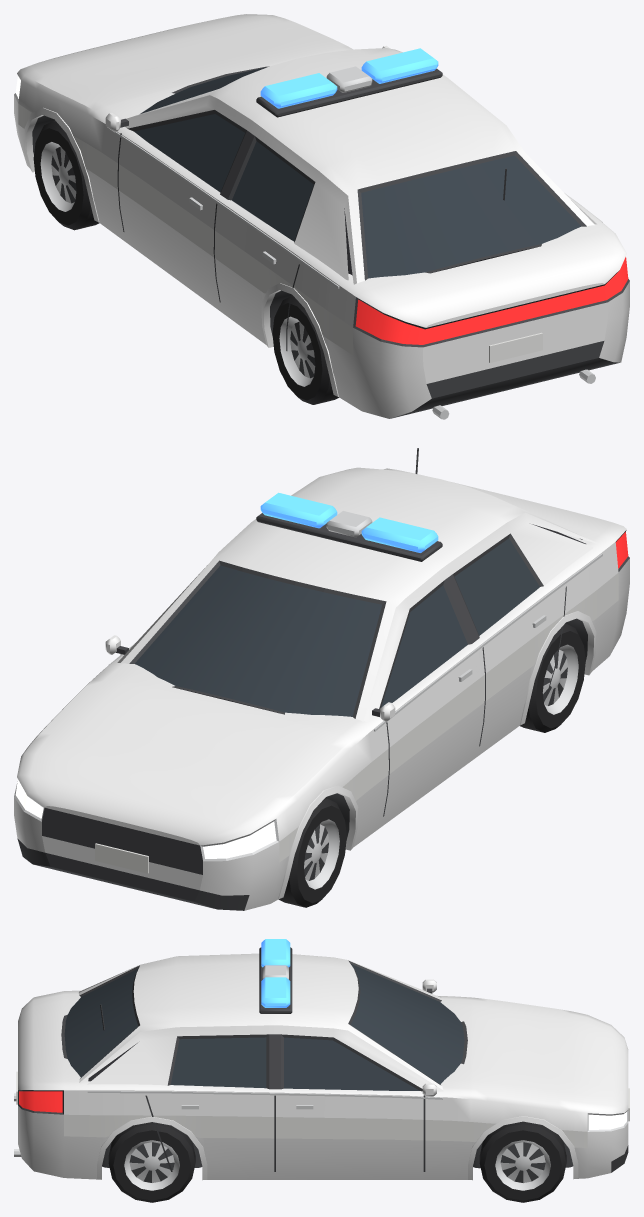
Rendered from Pantera.fbx.
The picture shows the model from 3 angles, top to bottom: view 1: azimuth 30°, elevation 25°; view 2: azimuth 150°, elevation 25°; view 3: azimuth 270°, elevation 25°; orthographic projection. The views are drawn at different scales.
Visible parts, largest first — view 1: Body, Wheel_RL, Wheel_FL; view 2: Body, Wheel_FL, Wheel_RL; view 3: Body, Wheel_FR, Wheel_RR.
Part boxes in pixels (x1,y1,x2,y2): Body: [14, 14, 629, 419]; Wheel_RL: [272, 295, 338, 404]; Wheel_FL: [33, 120, 99, 230]; Body: [14, 448, 629, 910]; Wheel_FL: [278, 798, 346, 907]; Wheel_RL: [520, 623, 585, 732]; Body: [14, 939, 629, 1180]; Wheel_FR: [479, 1121, 566, 1202]; Wheel_RR: [108, 1122, 195, 1202].
Size of what is drawn, in the model's own units: 1.94 by 1.56 by 4.68.
